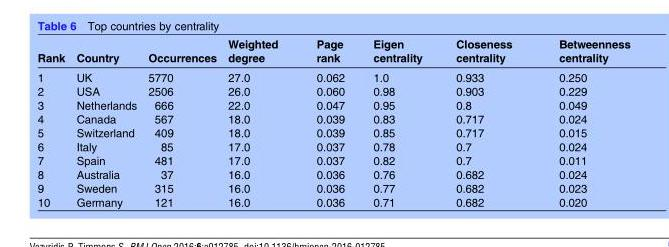table: (36, 36, 629, 207)
table column: (438, 36, 534, 207), (534, 36, 629, 207), (141, 36, 221, 207), (358, 36, 438, 207), (221, 36, 296, 207), (70, 36, 141, 207), (296, 36, 358, 207), (36, 36, 70, 207)
table column header: (36, 36, 629, 67)
table row: (36, 36, 629, 67), (36, 67, 629, 83), (36, 83, 629, 97), (36, 97, 629, 111), (36, 111, 629, 125), (36, 125, 629, 139), (36, 139, 629, 153), (36, 166, 629, 180), (36, 180, 629, 194), (36, 153, 629, 166), (36, 194, 629, 207)
